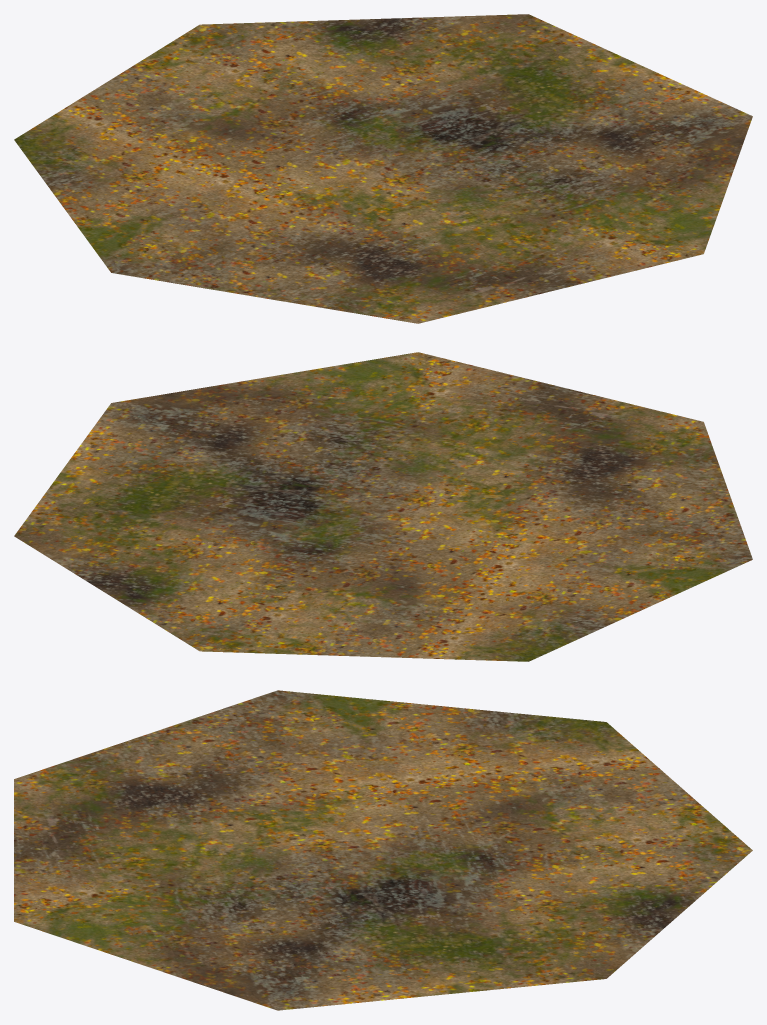
Rendered from terrain1.glb.
3 renders of one model, top to bottom at view 1: azimuth 30°, elevation 25°; view 2: azimuth 150°, elevation 25°; view 3: azimuth 270°, elevation 25°, orthographic. The views are drawn at different scales.
Visible parts, largest first — view 1: Circle; view 2: Circle; view 3: Circle.
Part boxes in pixels (bbox=[...]): Circle: bbox=[14, 14, 752, 323]; Circle: bbox=[14, 352, 752, 661]; Circle: bbox=[14, 690, 752, 1010].
Bounding box in the file's own units: 19.5 × 0 × 19.01.
1 material, 1 textured.
